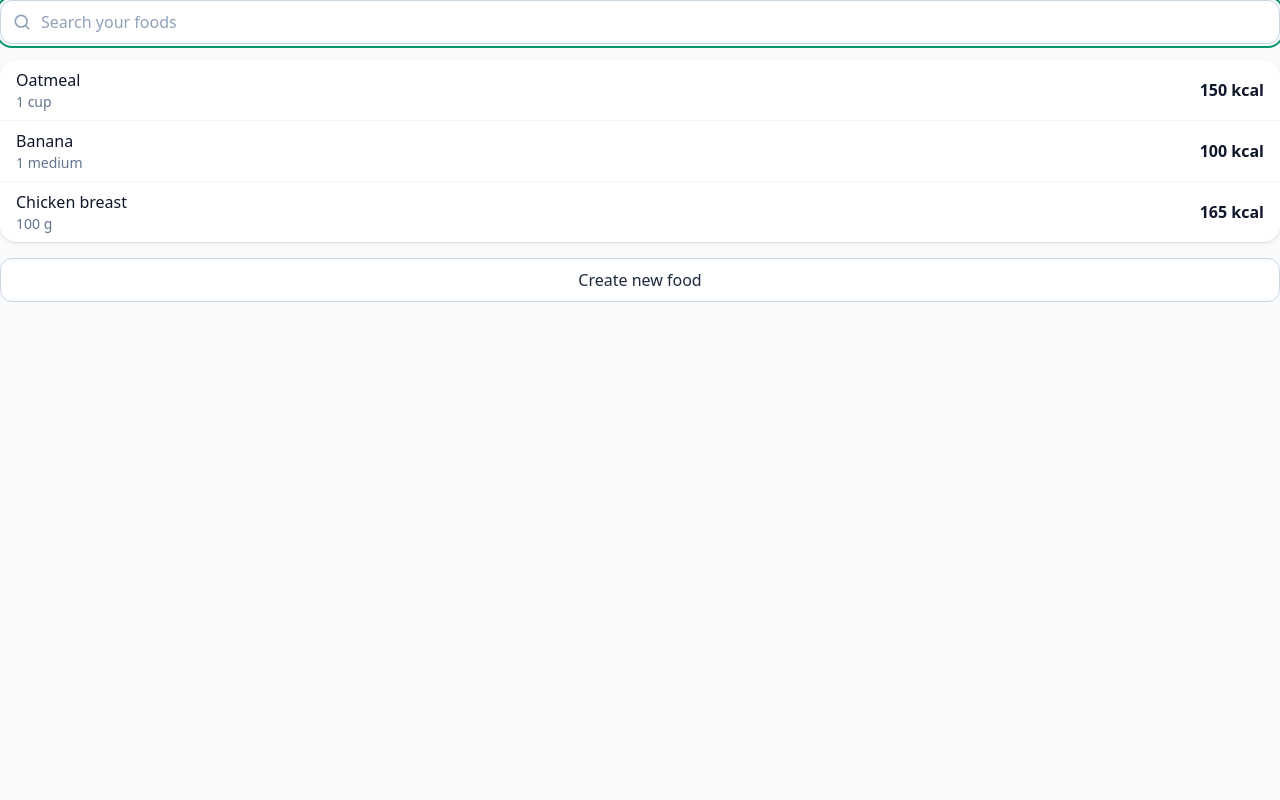
AddFoodView (Log food) › creates a new food and then offers to log it
Click the button "Create new food" at {"x": 640, "y": 280}, box [0,258,1279,302]
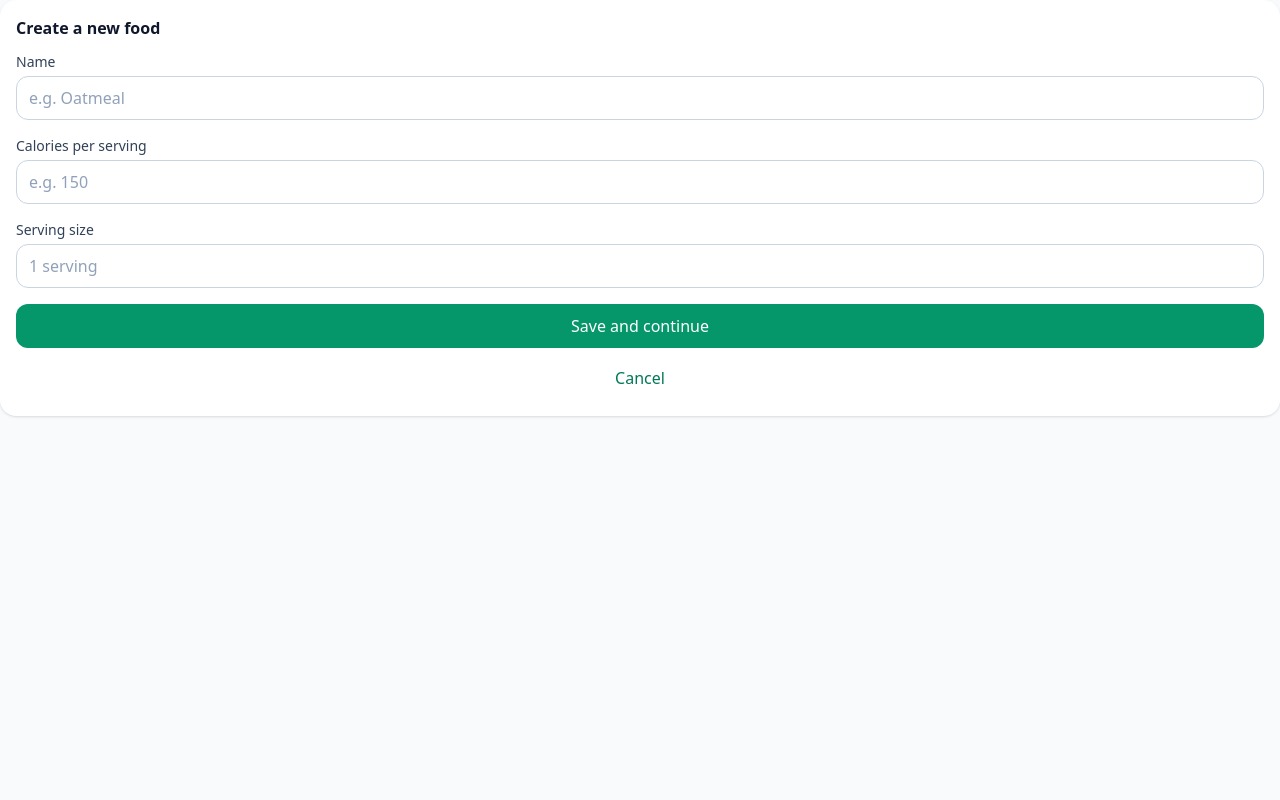
Type "Rice" into the field labelled "Name" at {"x": 640, "y": 98}, box [16,76,1264,120]
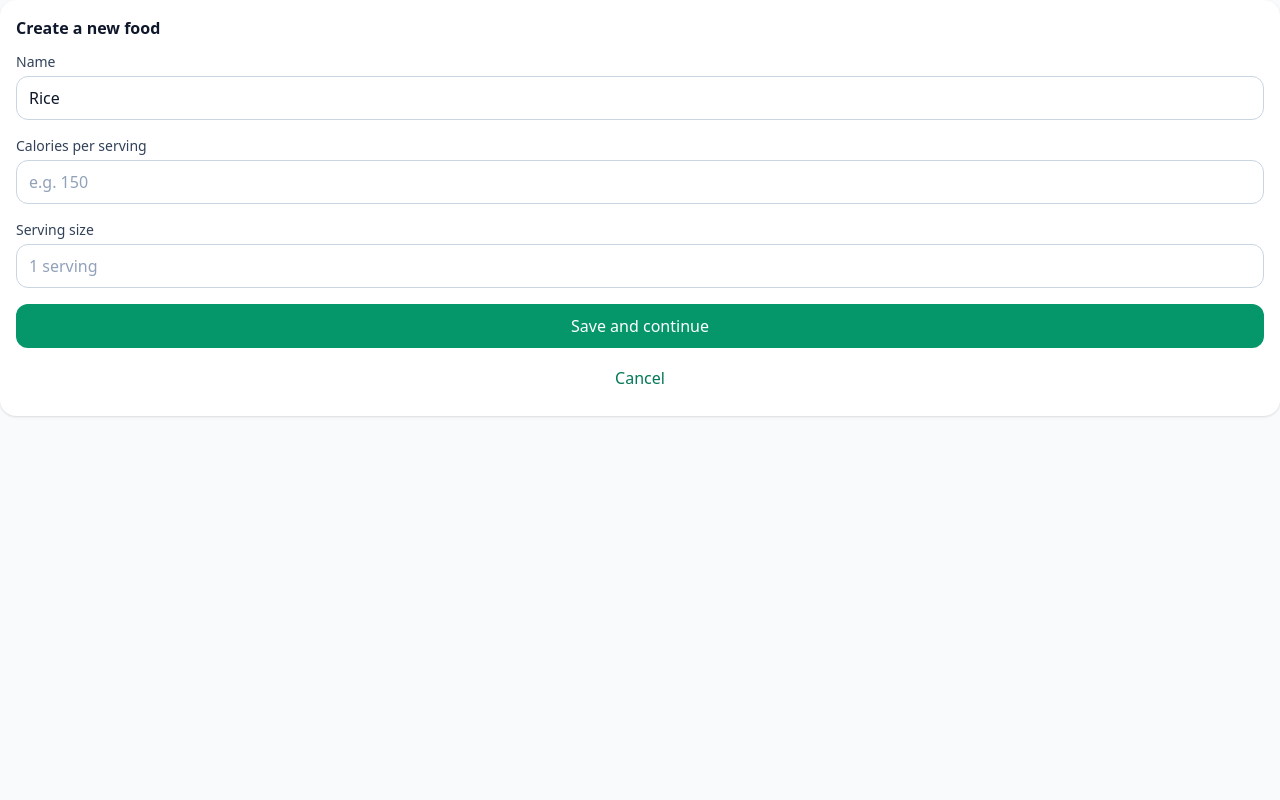
Type "200" into the number field labelled "Calories per serving" at {"x": 640, "y": 182}, box [16,160,1264,204]
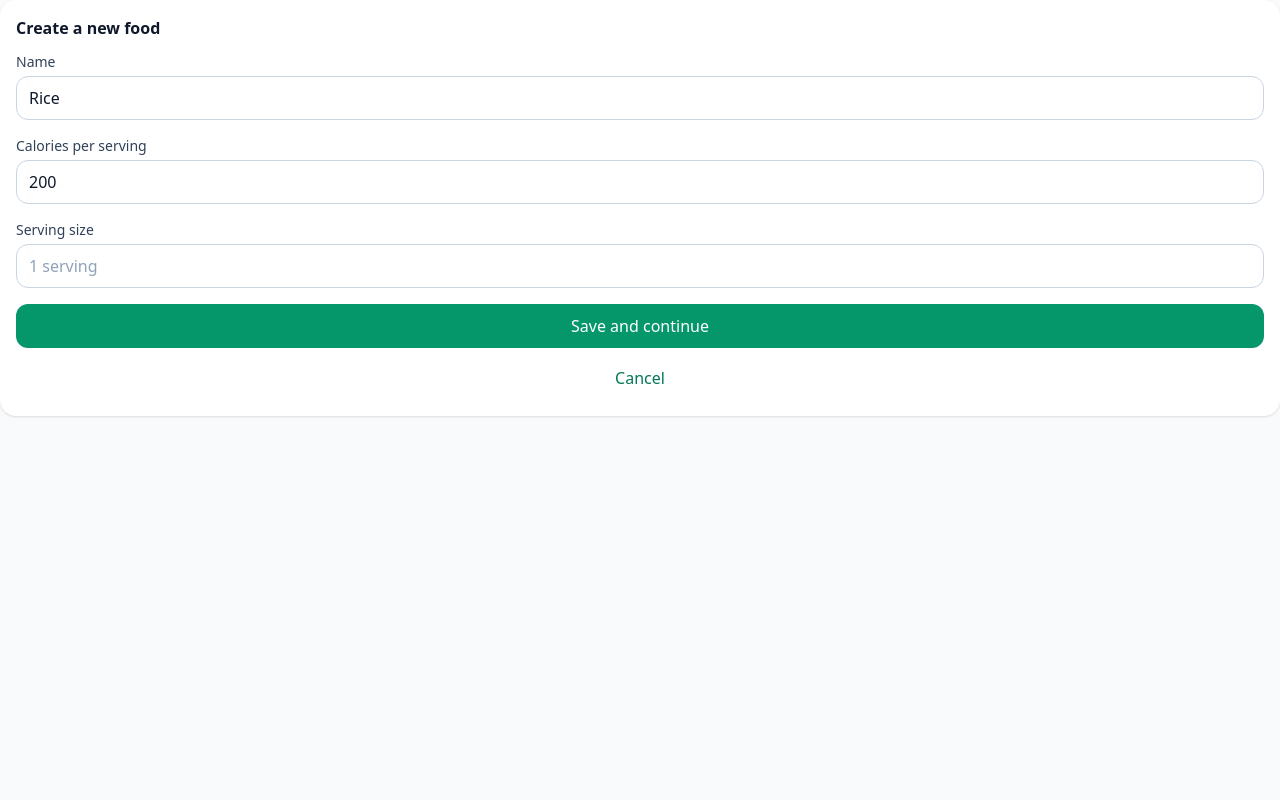
Type "1 cup" into the field labelled "Serving size" at {"x": 640, "y": 266}, box [16,244,1264,288]
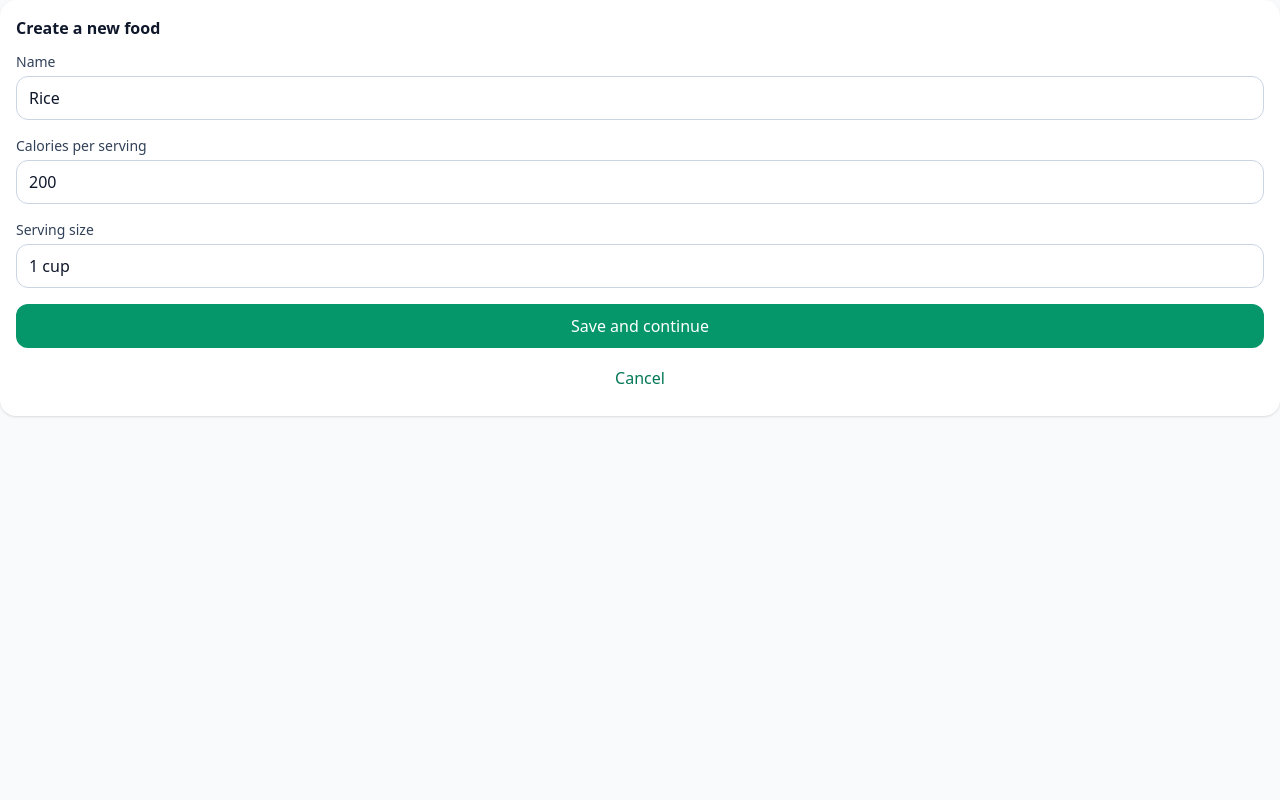
Submit the form, box [16,52,1264,348]
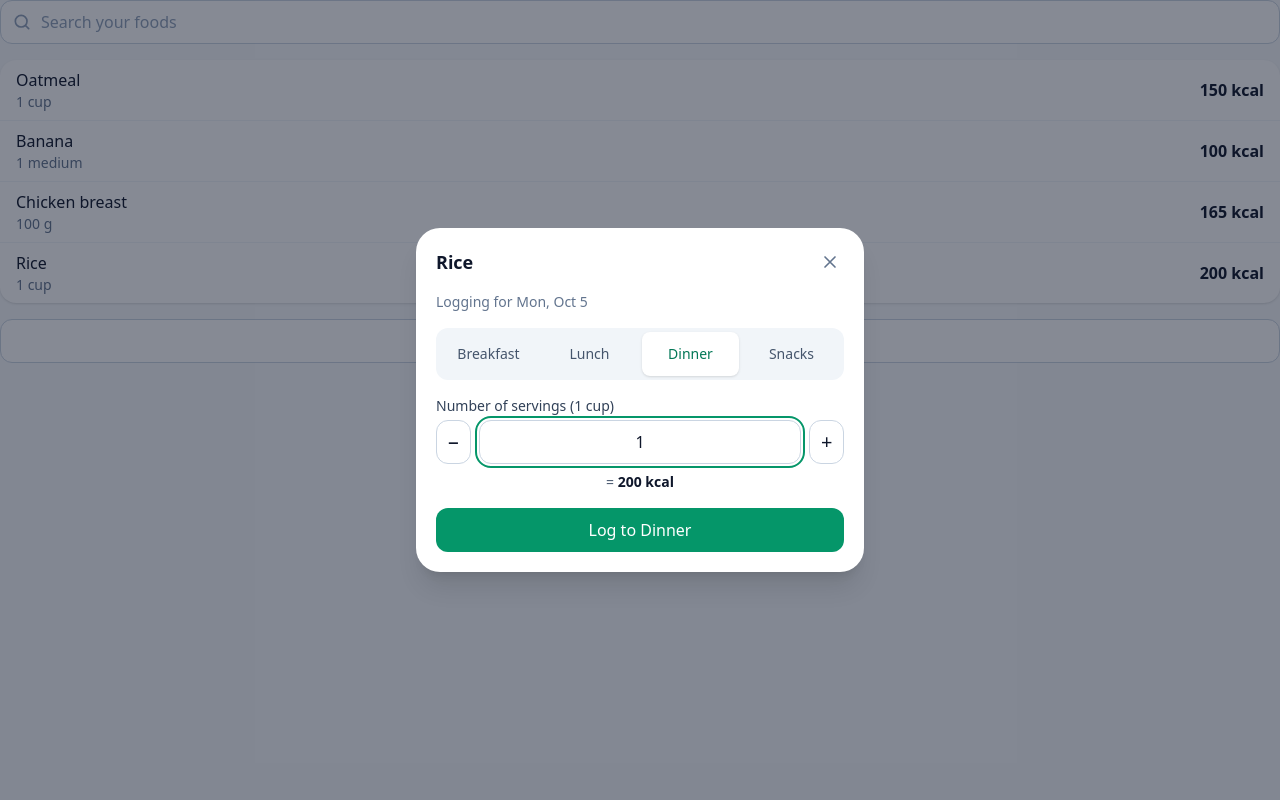
Now the button "Log to Dinner" is shown, box [436,508,844,552]
Now the text "Rice" is shown, box [16,251,52,275]
